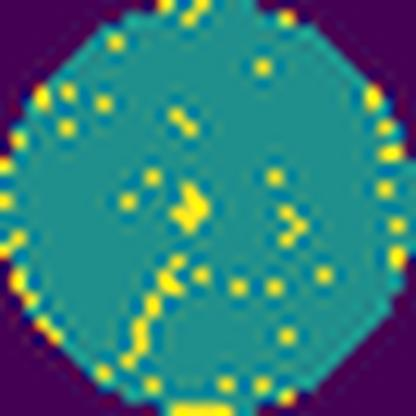Scratch: (118, 247, 197, 372)
